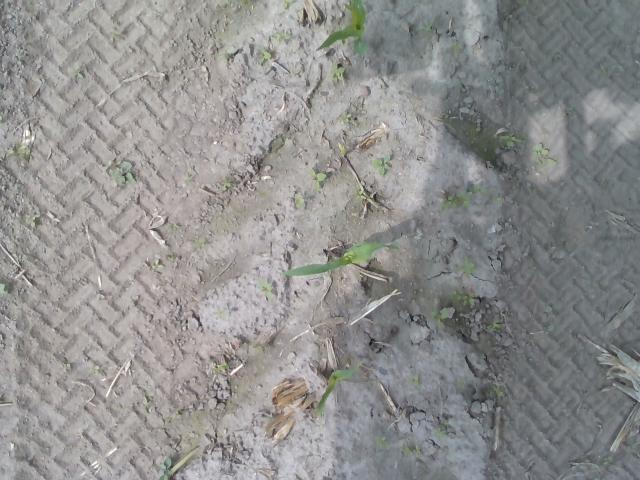Maize: (286, 239, 400, 278), (316, 0, 369, 59), (312, 368, 356, 422)
Weeds: (438, 186, 484, 210), (110, 158, 136, 184), (530, 142, 556, 166), (446, 288, 476, 307), (306, 168, 328, 192), (456, 254, 480, 276), (370, 154, 392, 176), (256, 278, 275, 297), (158, 456, 172, 480), (498, 132, 520, 146), (488, 382, 505, 400), (329, 62, 345, 80), (257, 46, 273, 64), (6, 143, 28, 155), (222, 48, 238, 64), (272, 30, 290, 43), (432, 309, 449, 321), (374, 436, 391, 448), (401, 447, 421, 457), (150, 257, 164, 271), (219, 177, 232, 191), (25, 214, 40, 226), (339, 110, 352, 123), (294, 193, 305, 208), (280, 0, 296, 10), (353, 189, 366, 201), (486, 322, 498, 334), (408, 374, 419, 386), (217, 362, 230, 372), (88, 364, 100, 374)
